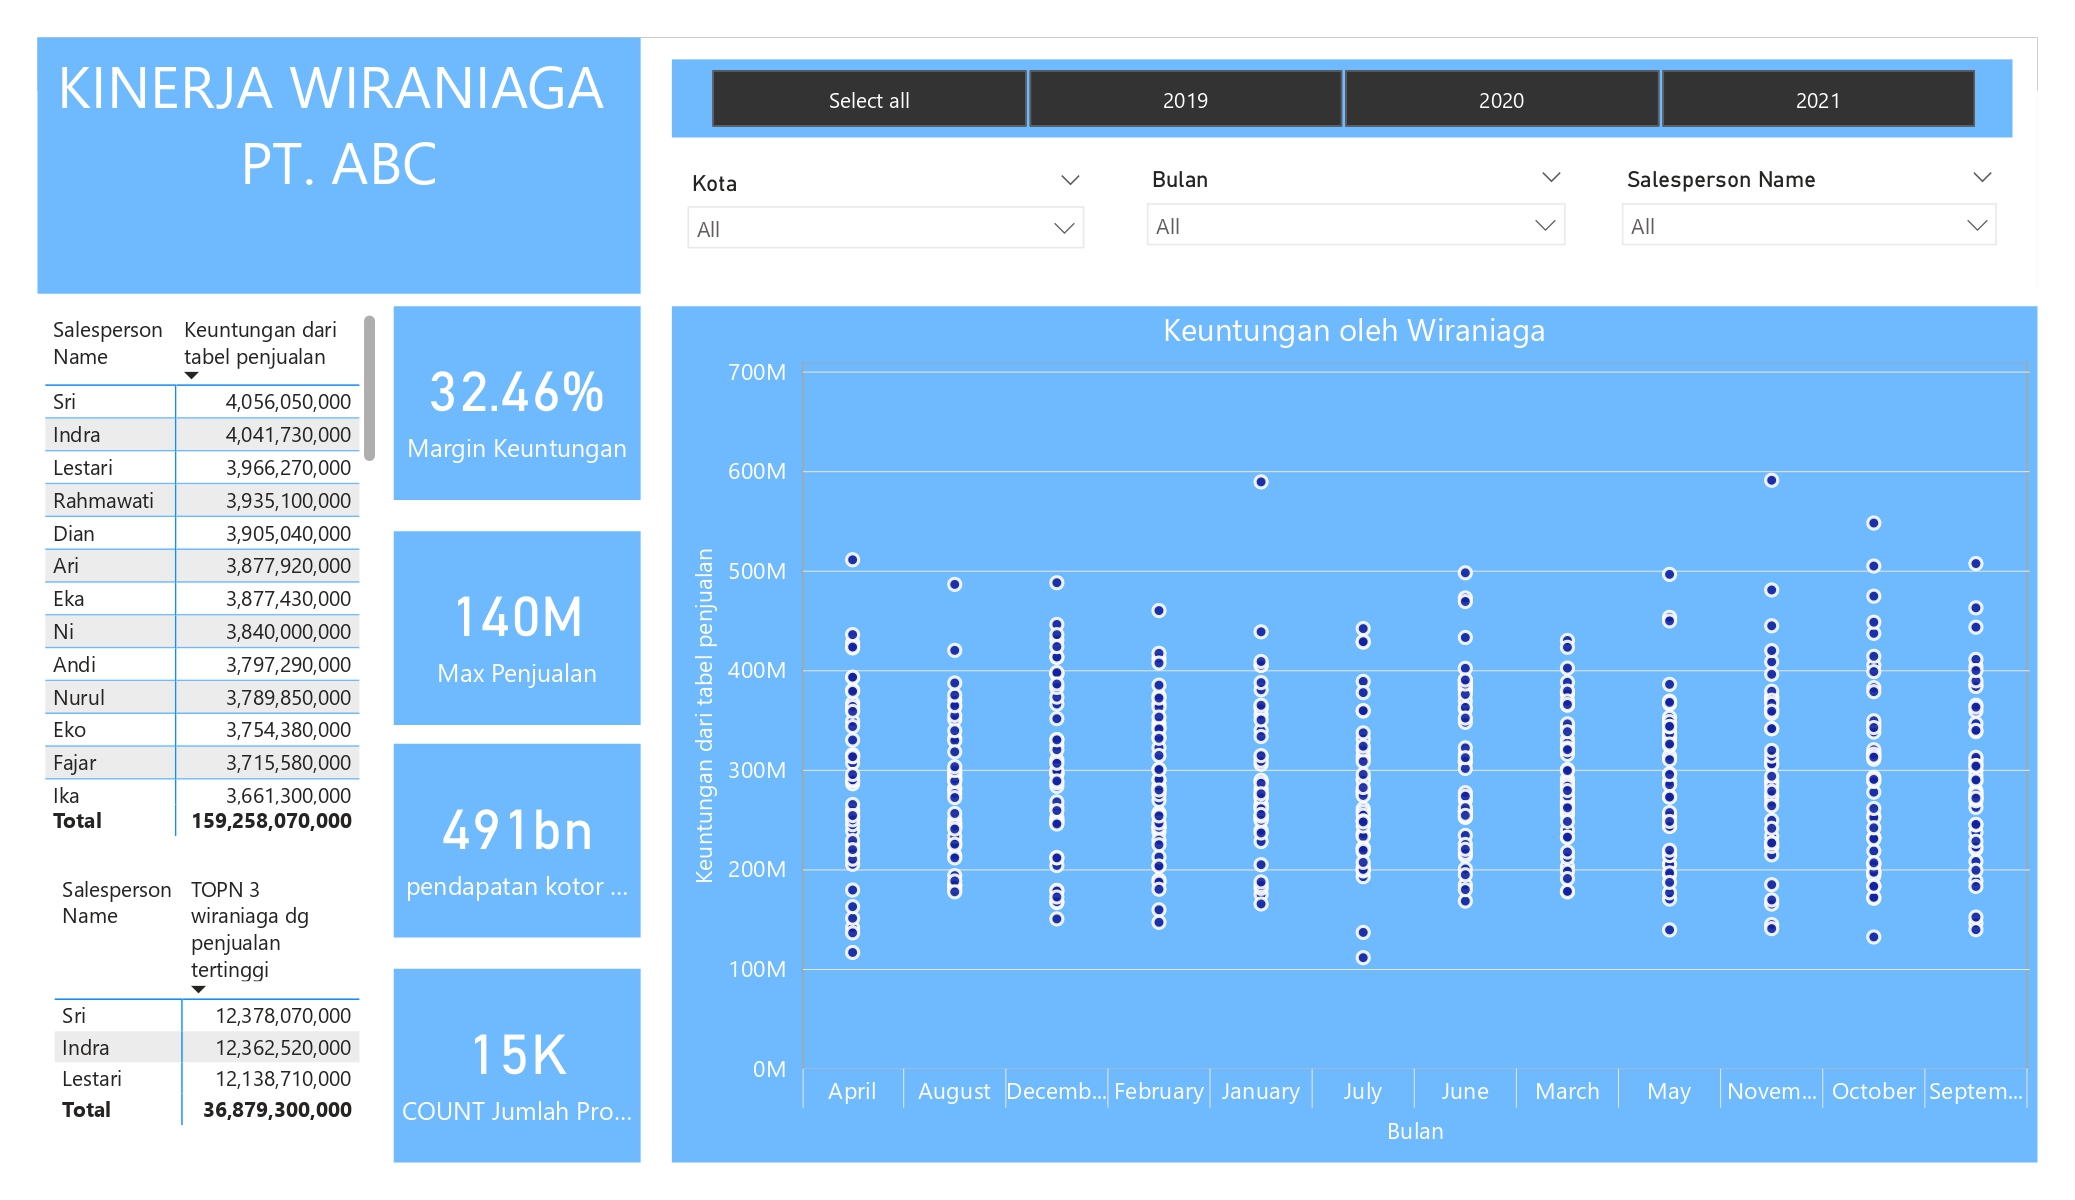

This screenshot's page, from the dashboard's own definition file:
{"tool":"powerbi","page":{"name":"Dashboard 2","canvas":[1280,720],"ordinal":13},"visuals":[{"type":"DotPlotByMAQ1823AB39DB234AB522063E728AD","title":"Keuntungan oleh Wiraniaga","fields":{"category":["Wiraniaga.Salesperson Name"],"categoryGroup":["Tanggal.Bulan"],"measure":["Kumpulan Measure.Keuntungan dari tabel penjualan"]},"box":[406,172,874,548],"z":0},{"type":"slicer","fields":{"Values":["Tanggal.Tahun"]},"box":[406,14,858,50],"z":1000},{"type":"slicer","fields":{"Values":["Lokasi.Kota"]},"box":[406,80,274,84],"z":2000},{"type":"slicer","fields":{"Values":["Tanggal.Bulan"]},"box":[700,78,288,88],"z":3000},{"type":"slicer","fields":{"Values":["Wiraniaga.Salesperson Name"]},"box":[1004,78,260,88],"z":4000},{"type":"card","fields":{"Values":["Kumpulan Measure.Margin Keuntungan"]},"box":[228,172,158,124],"z":5000},{"type":"card","fields":{"Values":["Kumpulan Measure.Max Penjualan"]},"box":[228,316,158,124],"z":6000},{"type":"card","fields":{"Values":["Kumpulan Measure.pendapatan kotor measure"]},"box":[228,452,158,124],"z":7000},{"type":"card","fields":{"Values":["Kumpulan Measure.COUNT Jumlah Produk terjual"]},"box":[228,596,158,124],"z":8000},{"type":"pivotTable","fields":{"Rows":["Wiraniaga.Salesperson Name"],"Values":["Kumpulan Measure.Keuntungan dari tabel penjualan"]},"box":[0,172,222,344],"z":9000},{"type":"pivotTable","fields":{"Rows":["Wiraniaga.Salesperson Name"],"Values":["Kumpulan Measure.TOPN 3 wiraniaga dg penjualan tertinggi"]},"box":[6,530,216,190],"z":10000},{"type":"textbox","box":[0,0,386,164],"z":10001}]}

Visuals, with their boxes on the page's 1280x720 design canvas (x1, y1, x2, y2). These are canvas units, not pixel positions in the 2075x1200 screenshot, which may show the page scaled, cropped or inside an application window:
"Keuntungan oleh Wiraniaga" DotPlotByMAQ1823AB39DB234AB522063E728AD: [x1=406, y1=172, x2=1280, y2=720]
slicer - Tanggal.Tahun: [x1=406, y1=14, x2=1264, y2=64]
slicer - Lokasi.Kota: [x1=406, y1=80, x2=680, y2=164]
slicer - Tanggal.Bulan: [x1=700, y1=78, x2=988, y2=166]
slicer - Wiraniaga.Salesperson Name: [x1=1004, y1=78, x2=1264, y2=166]
card - Kumpulan Measure.Margin Keuntungan: [x1=228, y1=172, x2=386, y2=296]
card - Kumpulan Measure.Max Penjualan: [x1=228, y1=316, x2=386, y2=440]
card - Kumpulan Measure.pendapatan kotor measure: [x1=228, y1=452, x2=386, y2=576]
card - Kumpulan Measure.COUNT Jumlah Produk terjual: [x1=228, y1=596, x2=386, y2=720]
pivotTable - Wiraniaga.Salesperson Name x Kumpulan Measure.Keuntungan dari tabel penjualan: [x1=0, y1=172, x2=222, y2=516]
pivotTable - Wiraniaga.Salesperson Name x Kumpulan Measure.TOPN 3 wiraniaga dg penjualan tertinggi: [x1=6, y1=530, x2=222, y2=720]
textbox: [x1=0, y1=0, x2=386, y2=164]
